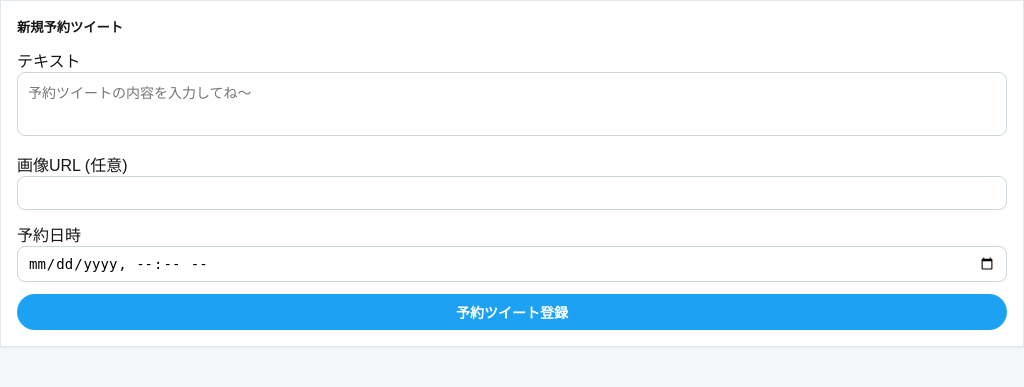
Test case: ScheduleTweetForm › fetch失敗時にエラーメッセージが出る
The width and height of the screenshot is (1024, 387).
Type "エラー確認" into the text box labelled "テキスト" at (512,104), box 17,72 -> 1007,136
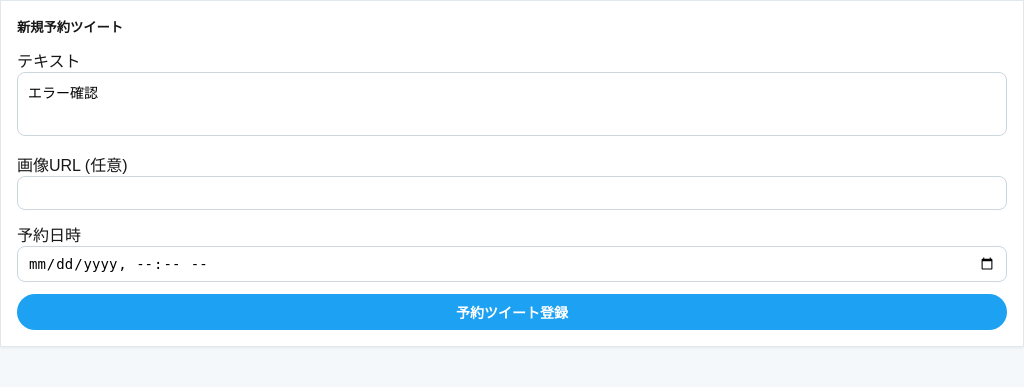
Type "2025-12-25T15:00" into the field labelled "予約日時" at (512,264), box 17,246 -> 1007,282
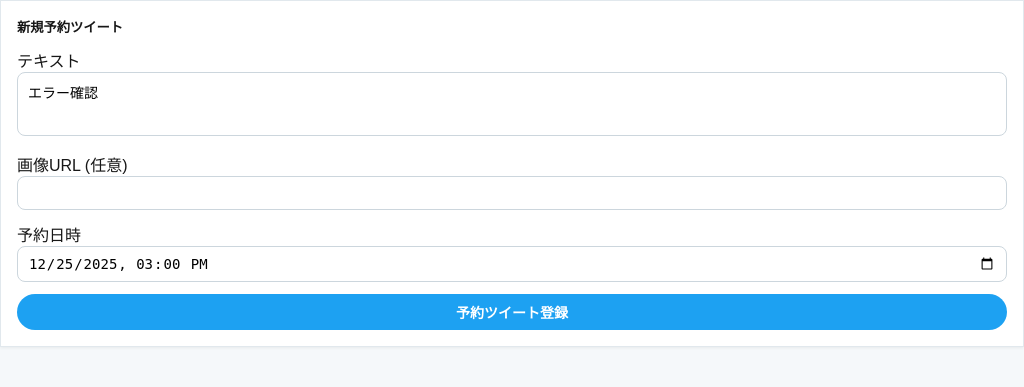
Click the button "予約ツイート登録" at (512,312), box 17,294 -> 1007,330
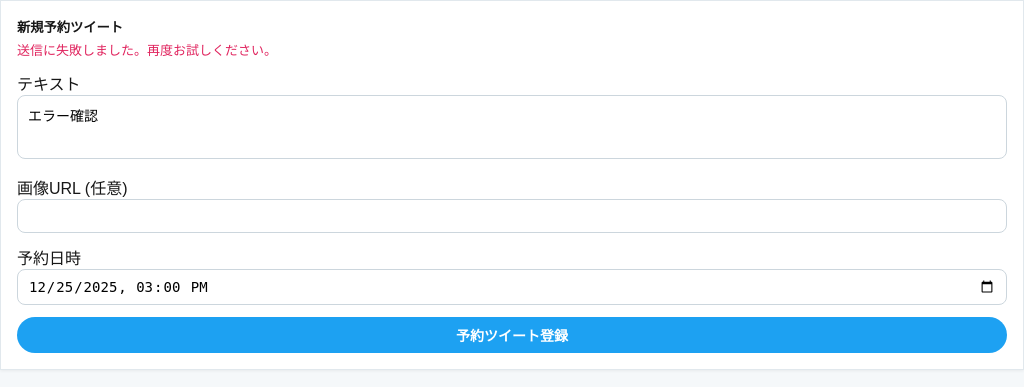
Expected: the text "送信に失敗しました。再度お試しください。" is shown, 17,43 -> 277,58
